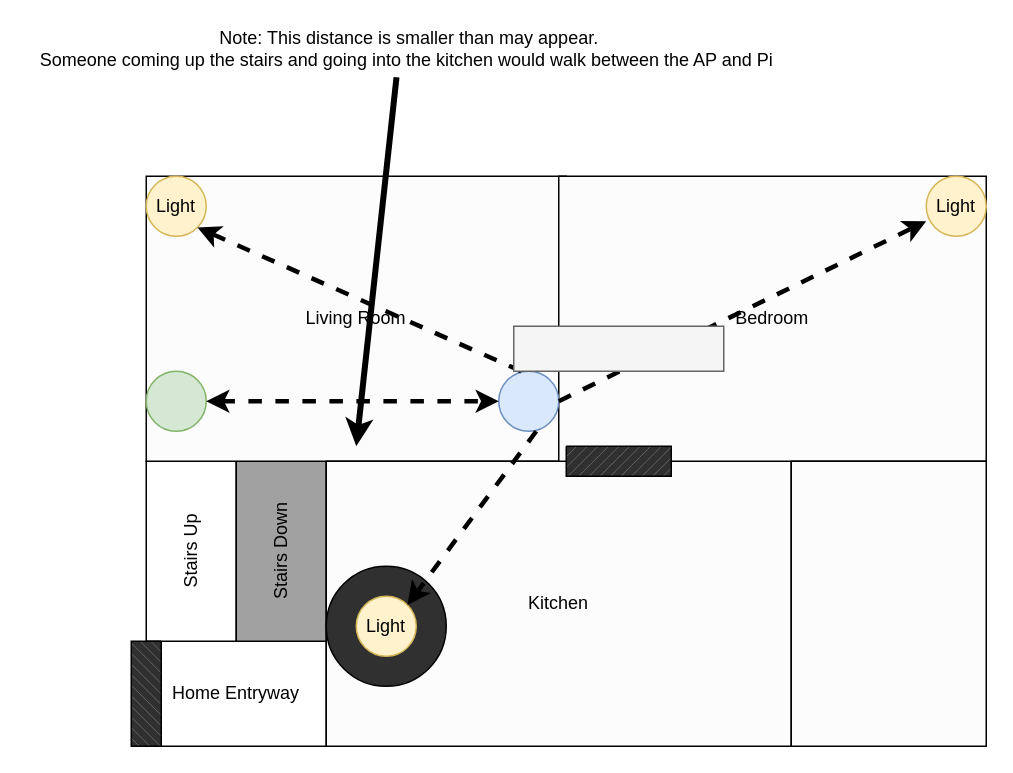
Image size: 1013x773. Some labels were removed from this diagram. Here are the shapes that lost their labels. From the top down, the centre of each, then its label:
[618,348]: Motion Detected Signals lights to turn on
[175,400]: AP
[528,400]: Pi
[888,603]: Bathroom
